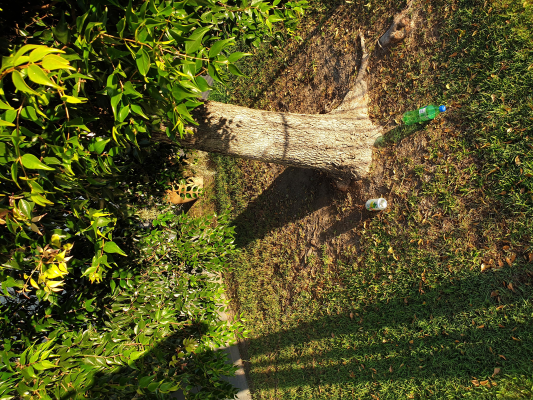Plastic Bottle: (403, 105, 446, 125), (365, 198, 387, 211)
